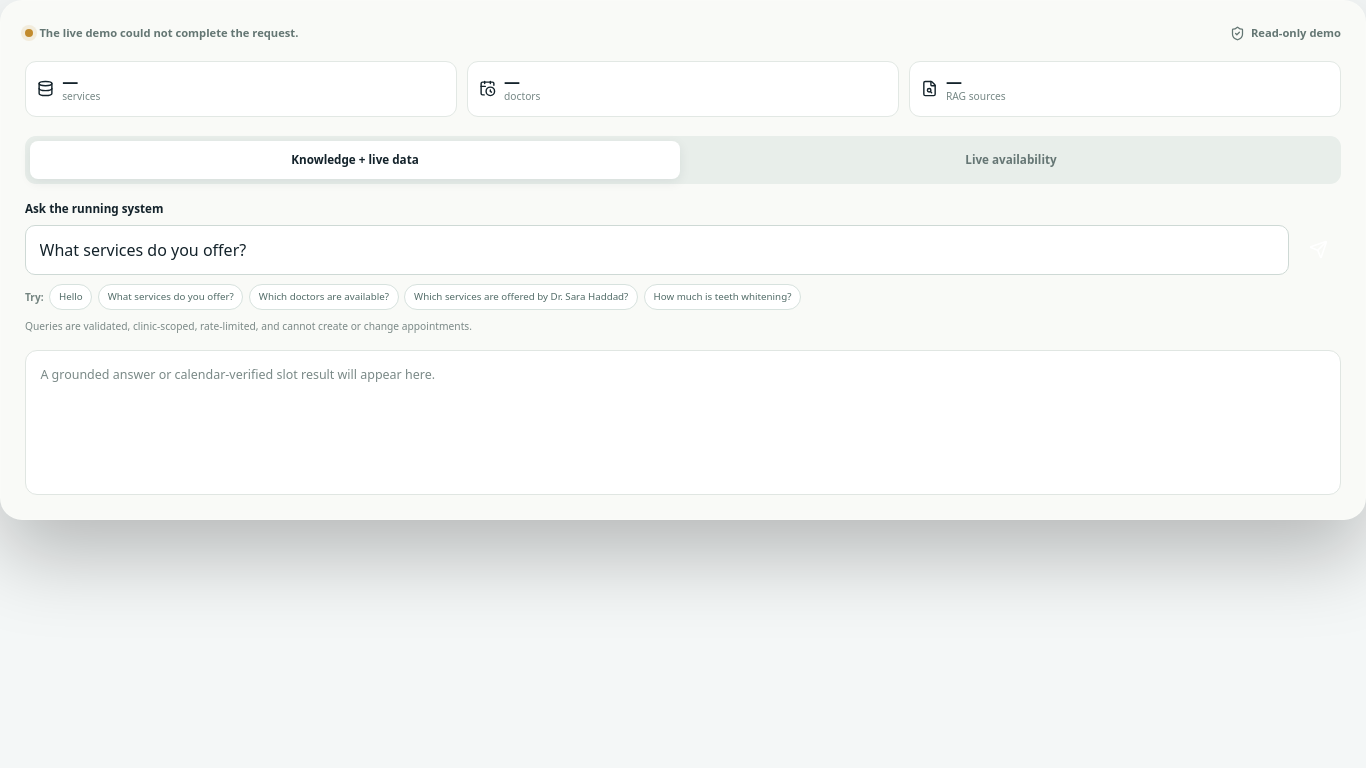
Scenario: RecruiterDemo › switches to the read-only availability example
The width and height of the screenshot is (1366, 768).
Click the tab "Live availability". click: {"x": 1011, "y": 160}
box: [686,141,1336,179]
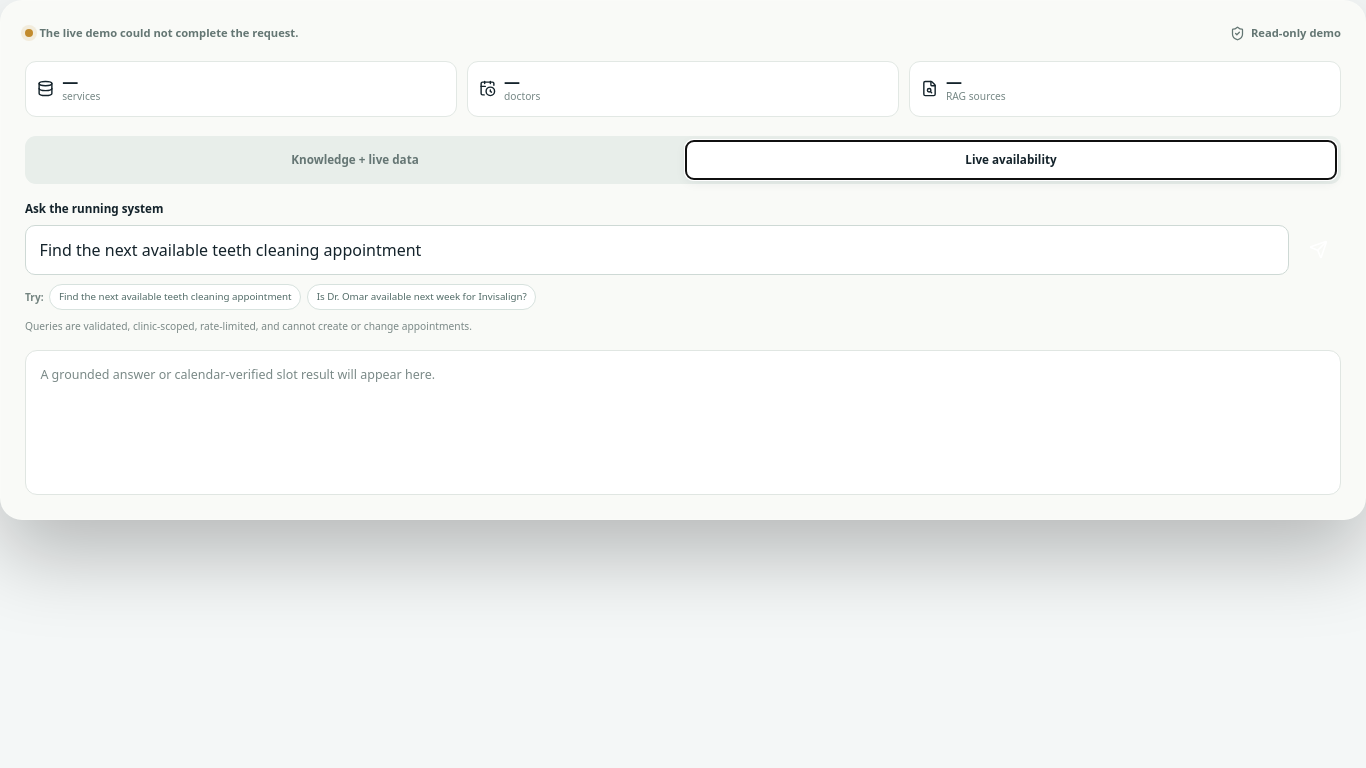
Now the field labelled "Ask the running system" holds "Find the next available teeth cleaning appointment", box [25,224,1289,274]
